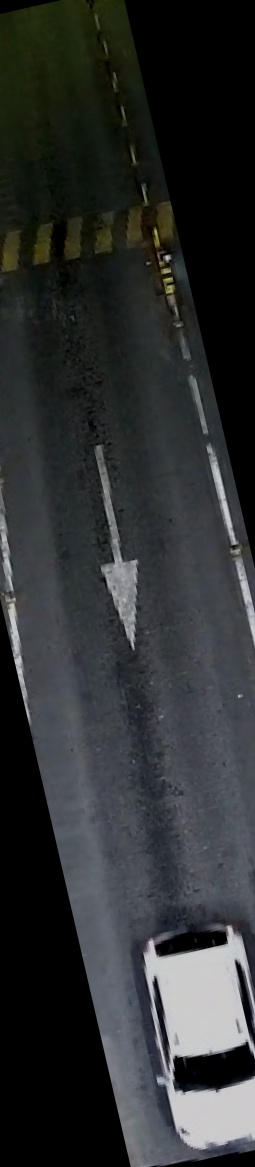car: (120, 907, 255, 1161)
